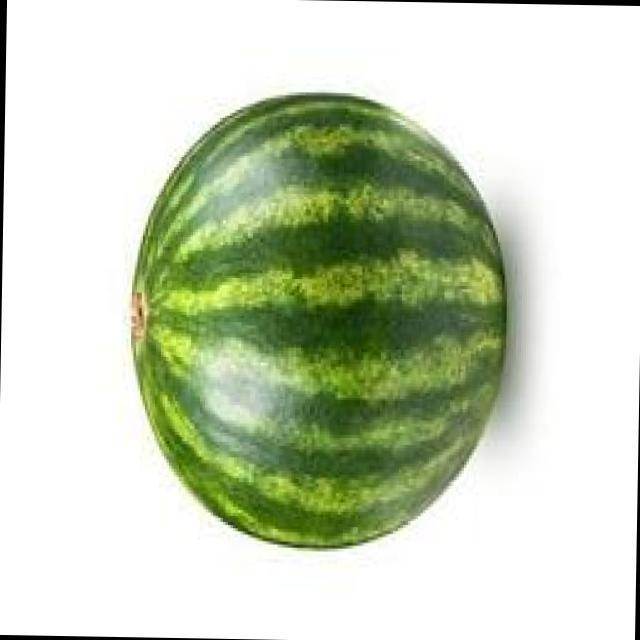watermelon: (124, 86, 521, 556)
